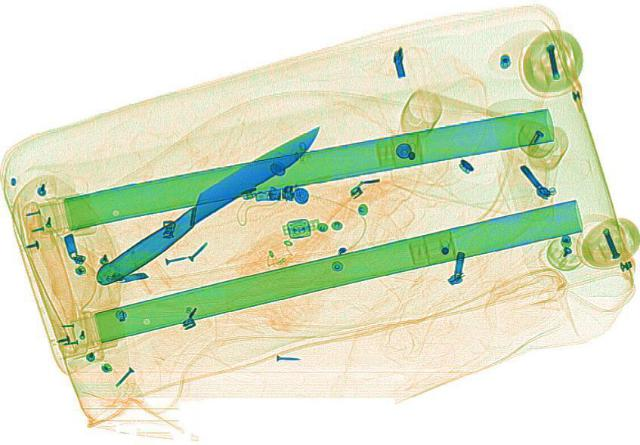Knife: (83, 116, 333, 289)
